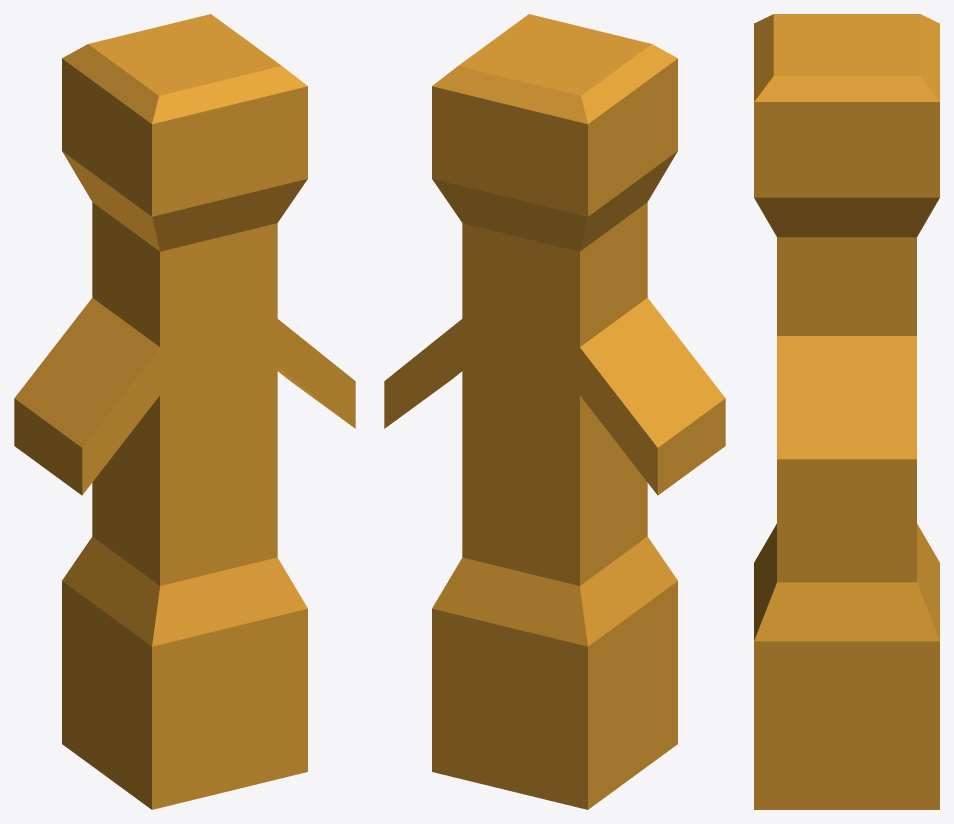
Rendered from statue-test.glb.
3 views of the same model, side by side, from view 1: azimuth 30°, elevation 25°; view 2: azimuth 150°, elevation 25°; view 3: azimuth 270°, elevation 25° (orthographic). The views are drawn at different scales.
Parts seen in each view (by area): view 1: Statue 1; view 2: Statue 1; view 3: Statue 1.
Part boxes in pixels (left/top/right/bottom): Statue 1: left=14, top=14, right=355, bottom=809; Statue 1: left=384, top=14, right=725, bottom=809; Statue 1: left=754, top=14, right=939, bottom=809.
Size of the model in its own units: 1.75 by 4.31 by 1.
